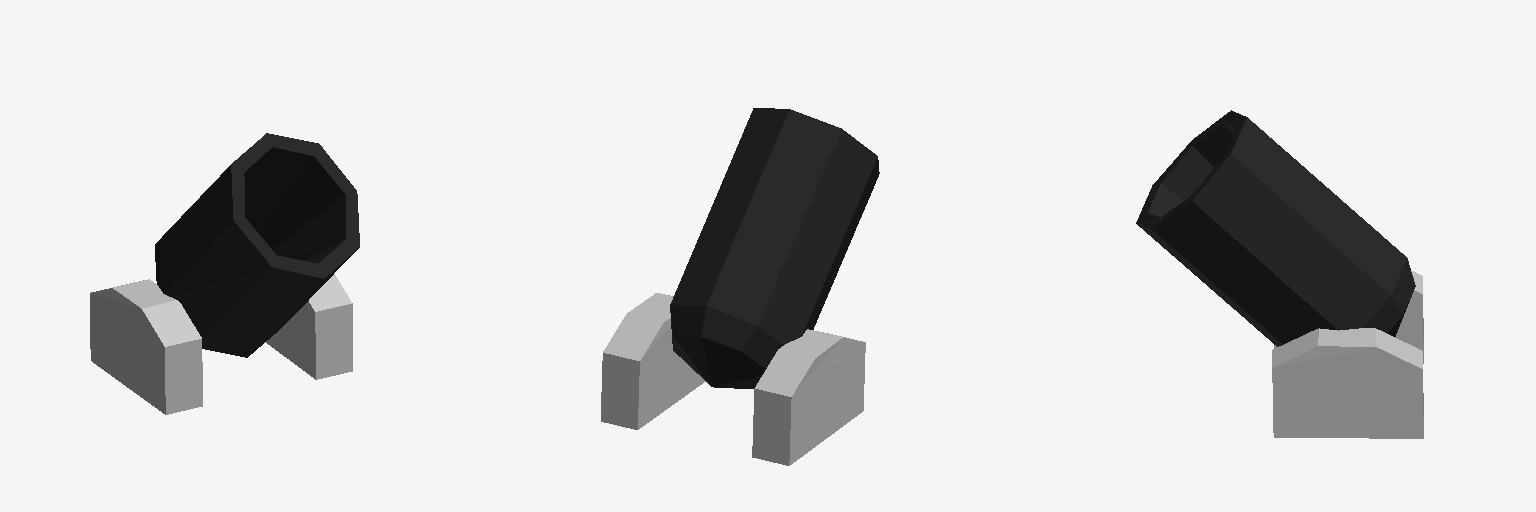
3 renders of one model, left to right at view 1: azimuth 30°, elevation 25°; view 2: azimuth 150°, elevation 25°; view 3: azimuth 270°, elevation 25°, orthographic.
Parts seen in each view (by area): view 1: DrawCall_55, DrawCall_56; view 2: DrawCall_55, DrawCall_56; view 3: DrawCall_55, DrawCall_56.
Part boxes in pixels (left/top/right/bottom): DrawCall_55: left=155, top=133, right=359, bottom=357; DrawCall_56: left=90, top=273, right=352, bottom=414; DrawCall_55: left=670, top=108, right=879, bottom=388; DrawCall_56: left=601, top=293, right=865, bottom=465; DrawCall_55: left=1136, top=110, right=1415, bottom=346; DrawCall_56: left=1272, top=270, right=1423, bottom=438.
Bounding box in the file's own units: 11.67 × 15.91 × 15.25.
2 materials, 1 textured.